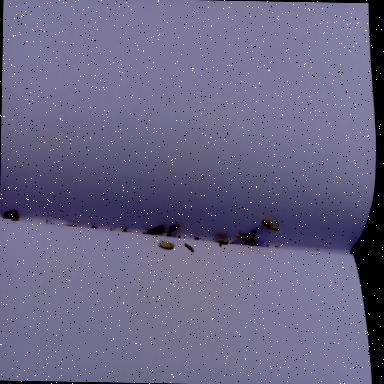pbw: (158, 240, 176, 249), (244, 231, 257, 242), (182, 242, 195, 252), (0, 212, 18, 219), (268, 224, 280, 232), (214, 238, 229, 244), (152, 228, 164, 234), (245, 241, 257, 246), (170, 225, 180, 231), (236, 234, 246, 240)
